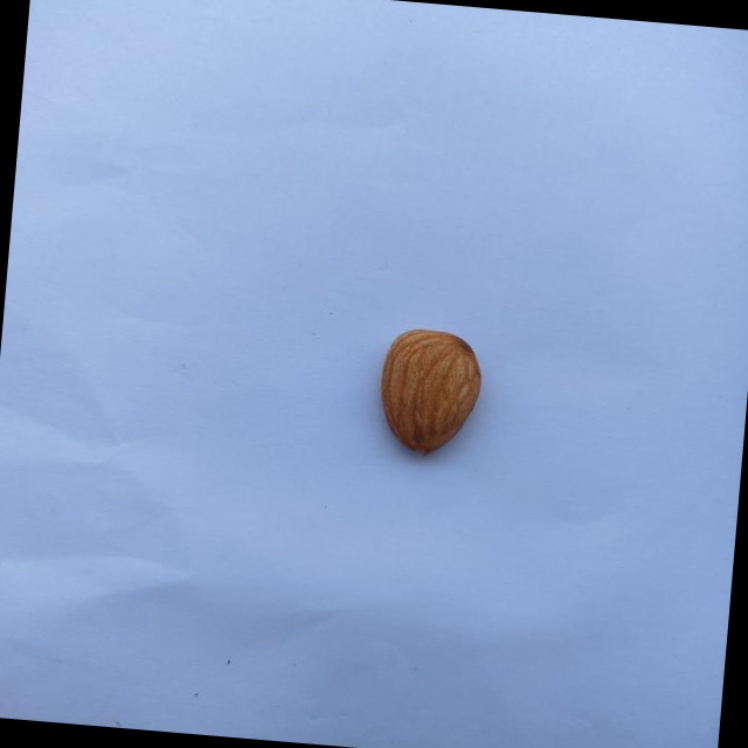grade1: (363, 317, 493, 469)
